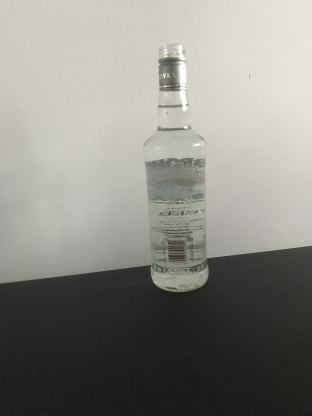nakretka: (156, 43, 188, 92)
